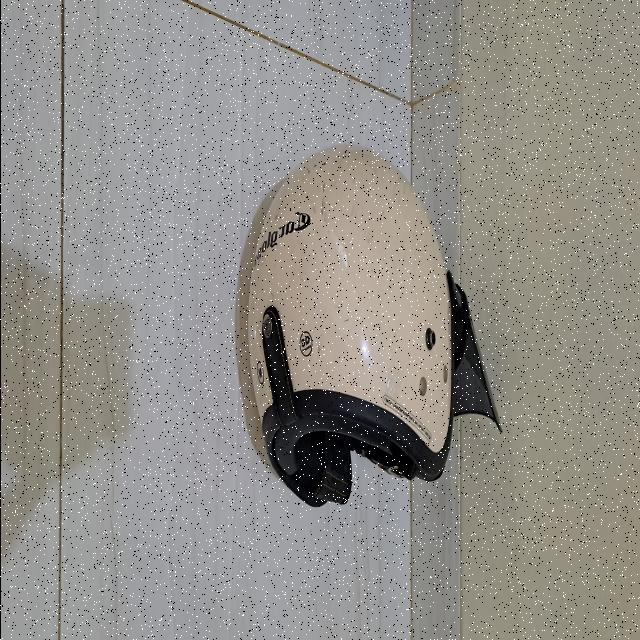Helmet: (233, 142, 494, 509)
